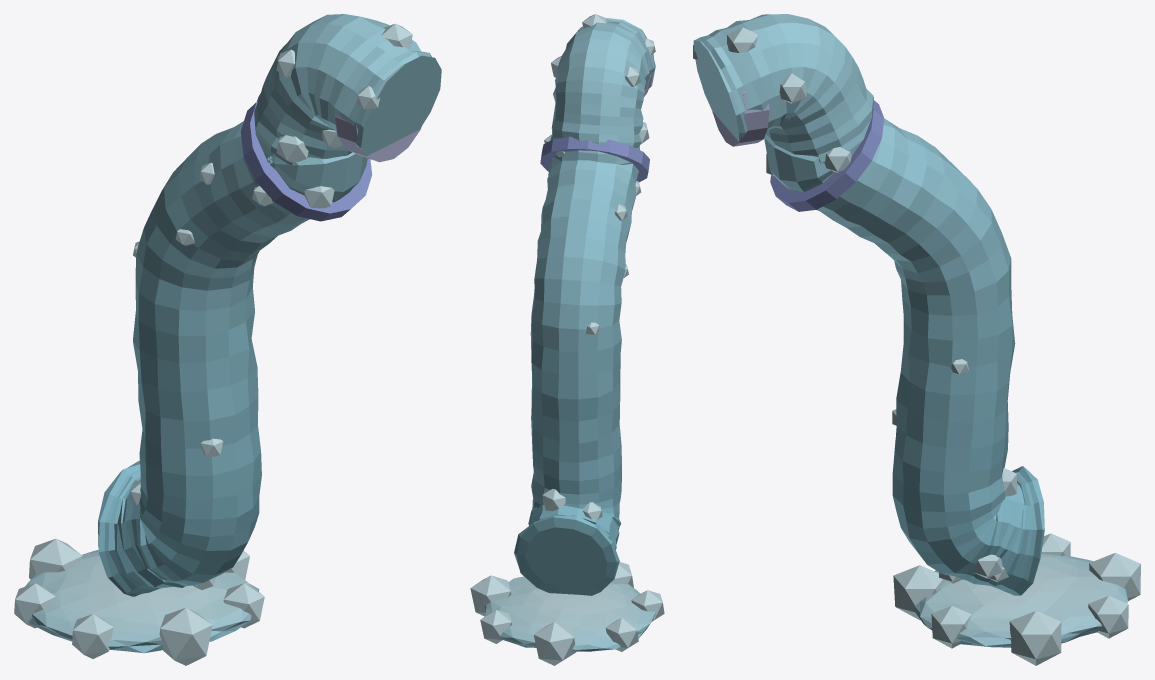
File: goo_drop_tube_goo_2@crystal.fbx
3 renders of one model, left to right at view 1: azimuth 30°, elevation 25°; view 2: azimuth 150°, elevation 25°; view 3: azimuth 270°, elevation 25°, orthographic. The views are drawn at different scales.
Visible parts, largest first — view 1: goo_drop_tube_goo_2; view 2: goo_drop_tube_goo_2; view 3: goo_drop_tube_goo_2.
Boxes of the visible parts, x1,y1,x2,y2 form: goo_drop_tube_goo_2: (14, 14, 441, 665); goo_drop_tube_goo_2: (470, 14, 664, 665); goo_drop_tube_goo_2: (693, 14, 1140, 665).
Size of the model in its own units: 8.66 by 21.79 by 13.69.
